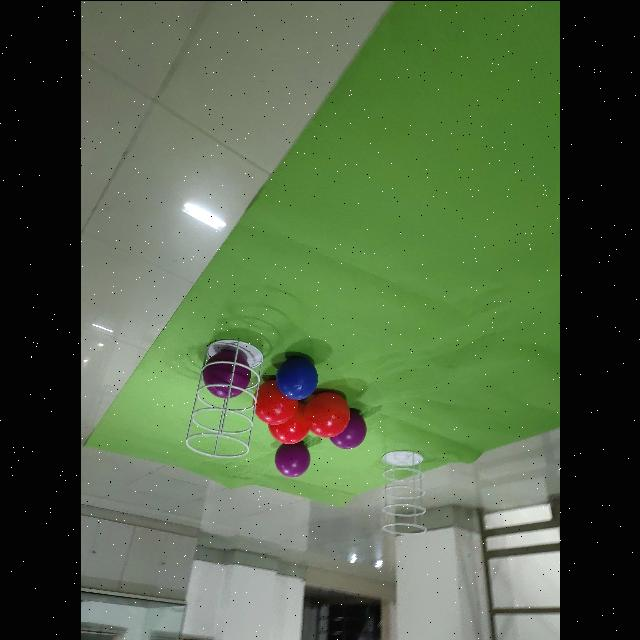B: (276, 356, 317, 399)
P: (202, 345, 248, 395), (330, 409, 367, 448), (274, 440, 310, 476)
R: (303, 391, 350, 437), (255, 379, 297, 424), (268, 401, 309, 443)
S: (182, 334, 264, 462), (382, 449, 426, 534)
